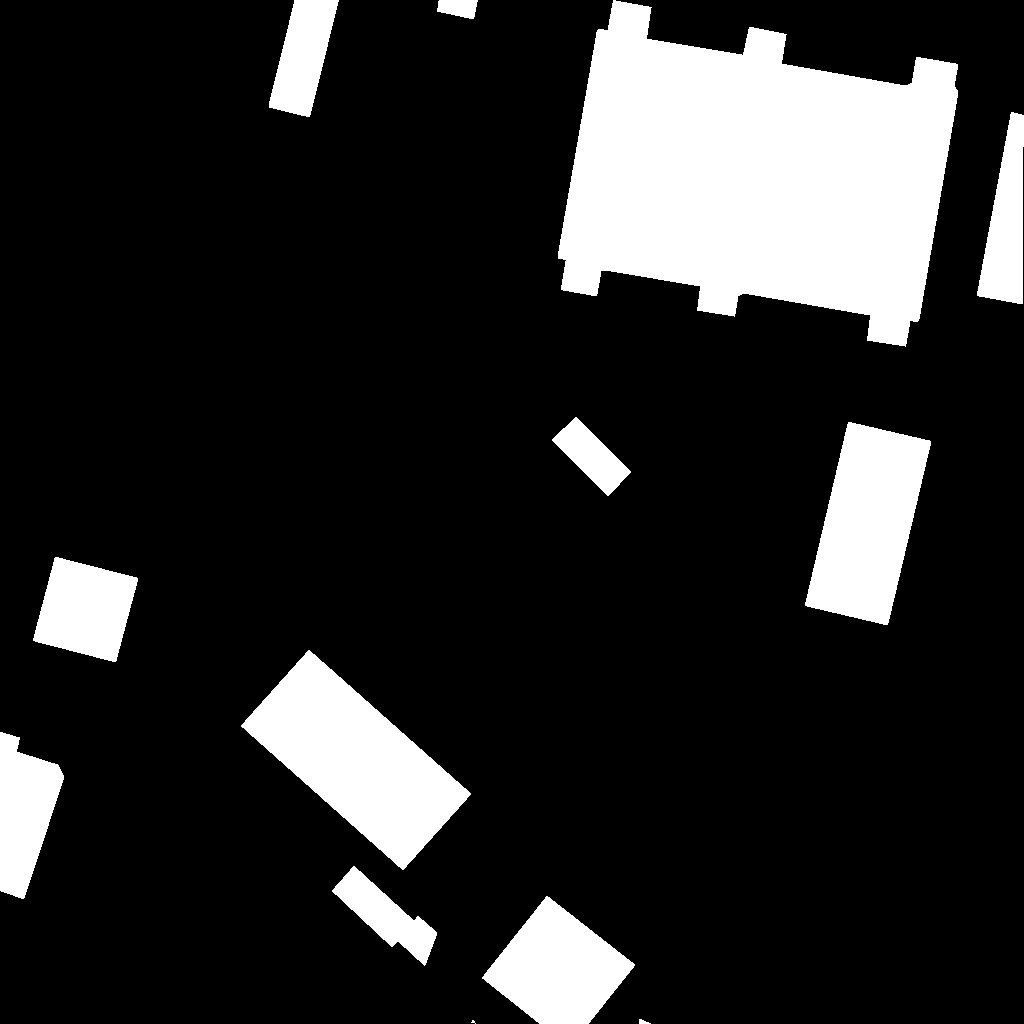building: (558, 0, 959, 347), (241, 650, 472, 871), (805, 422, 932, 626), (482, 896, 636, 1024), (33, 557, 139, 663), (0, 732, 65, 900), (332, 866, 438, 967), (977, 112, 1024, 305), (269, 0, 340, 118), (552, 417, 632, 497), (437, 0, 479, 20), (639, 1019, 652, 1024), (471, 1020, 477, 1024)
